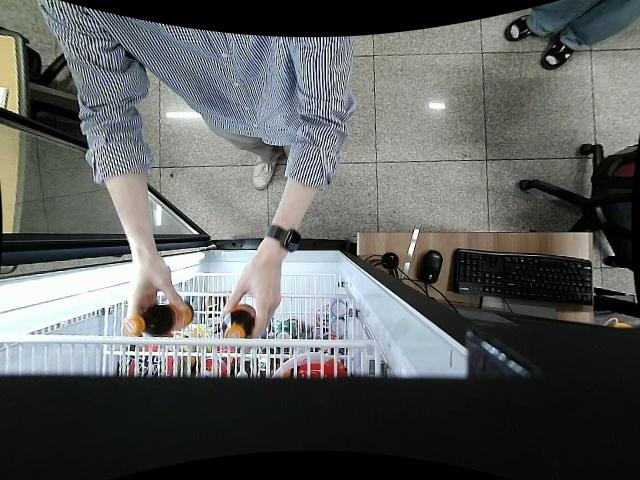00_hand: (218, 262, 282, 355), (127, 264, 190, 319)
17_vita500: (125, 304, 194, 335), (223, 302, 256, 339)
